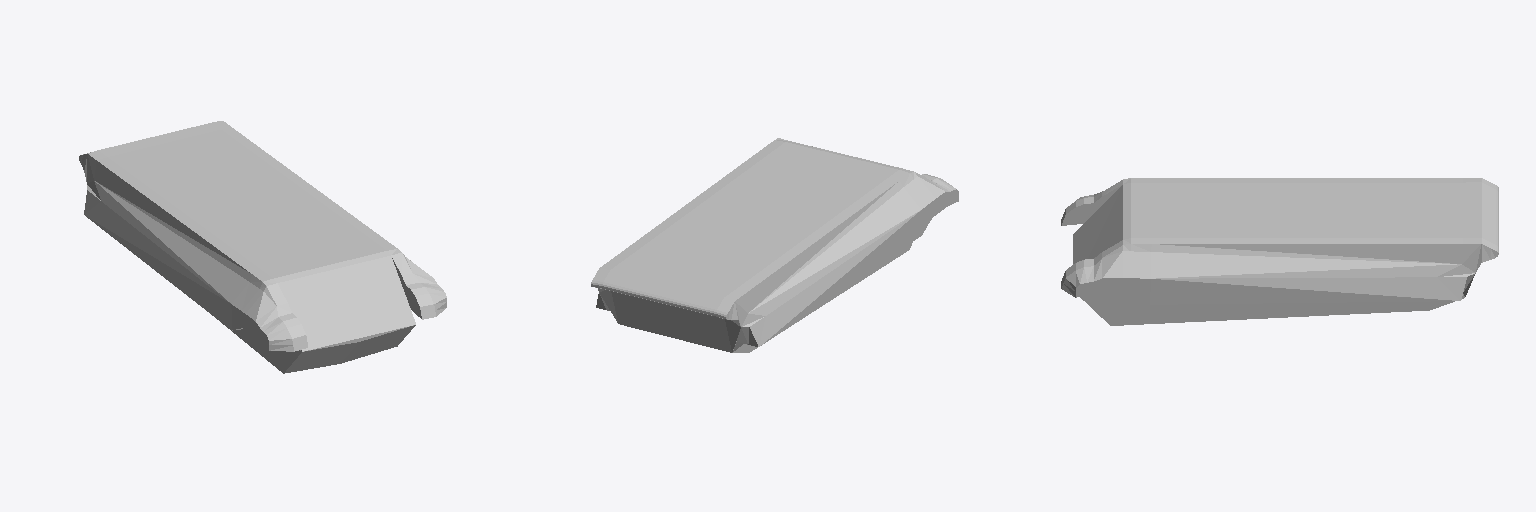
File: Panzer VI Tank Body.obj
3 renders of one model, left to right at view 1: azimuth 30°, elevation 25°; view 2: azimuth 150°, elevation 25°; view 3: azimuth 270°, elevation 25°, orthographic.
Parts seen in each view (by area): view 1: Cube; view 2: Cube; view 3: Cube.
Part boxes in pixels (x1,y1,x2,y2): Cube: (79,121,446,373); Cube: (591,138,958,352); Cube: (1061,178,1498,325).
Bounding box in the file's own units: 3.28 × 1.61 × 6.97.